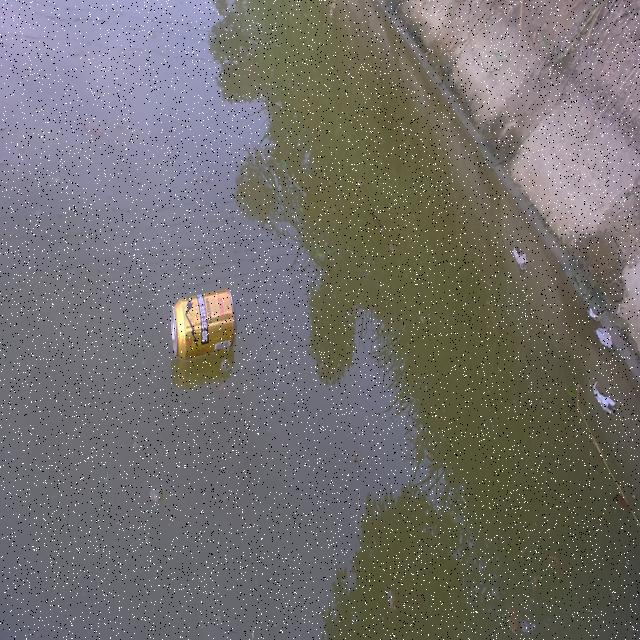Can: (167, 286, 239, 362)
